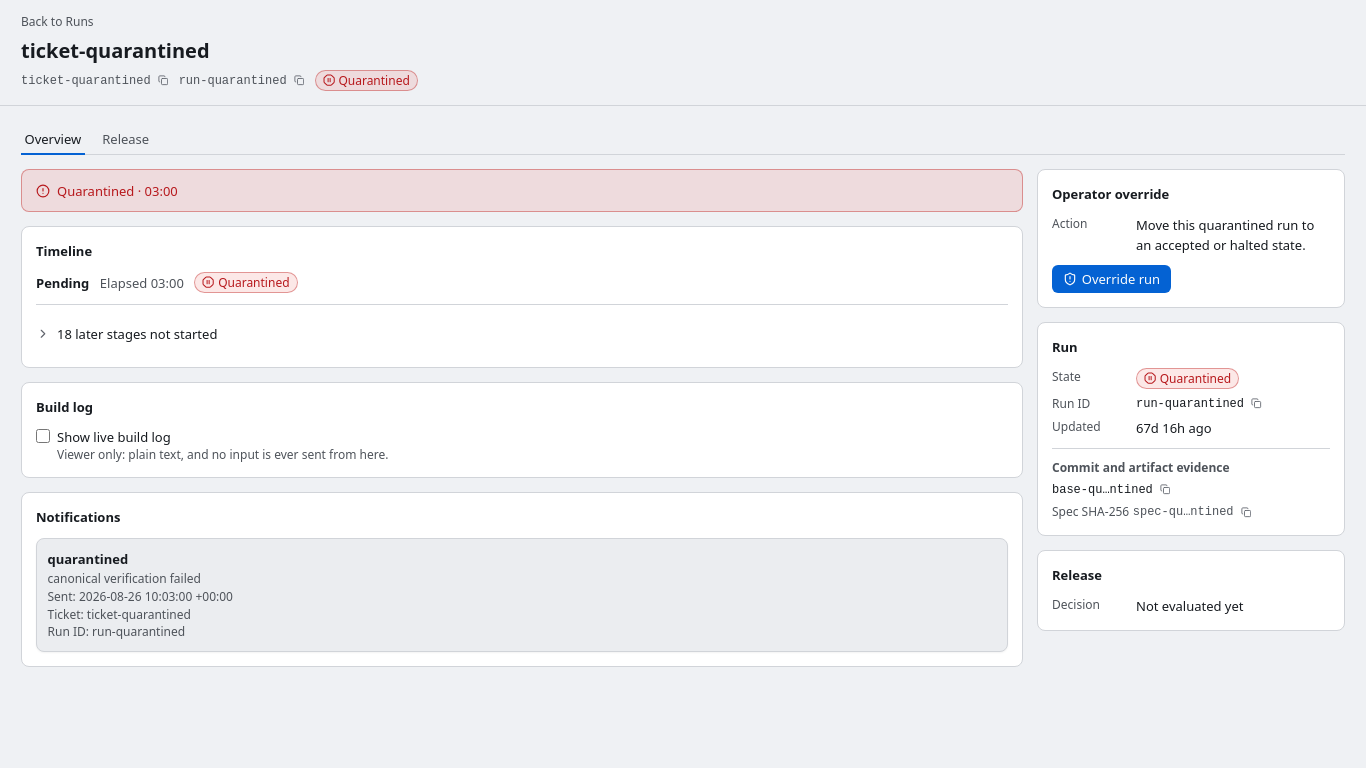
Test: the override dialog asks for the operator name first when none is stored
The width and height of the screenshot is (1366, 768).
Click the button "Override run" at (1111, 279), box top-left (1052, 265), bottom-right (1171, 293)
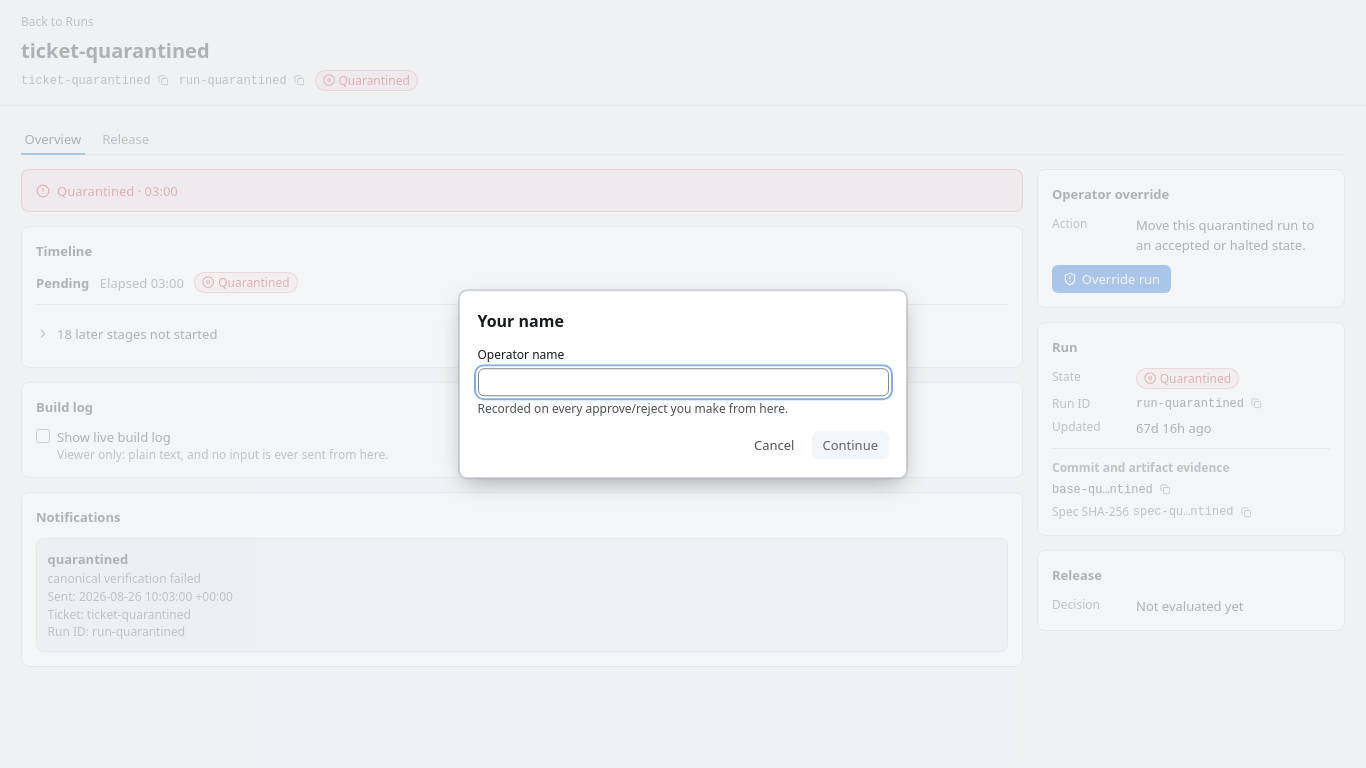
Type "Kanna" into the field labelled "Operator name" at (683, 382), box top-left (478, 368), bottom-right (888, 396)
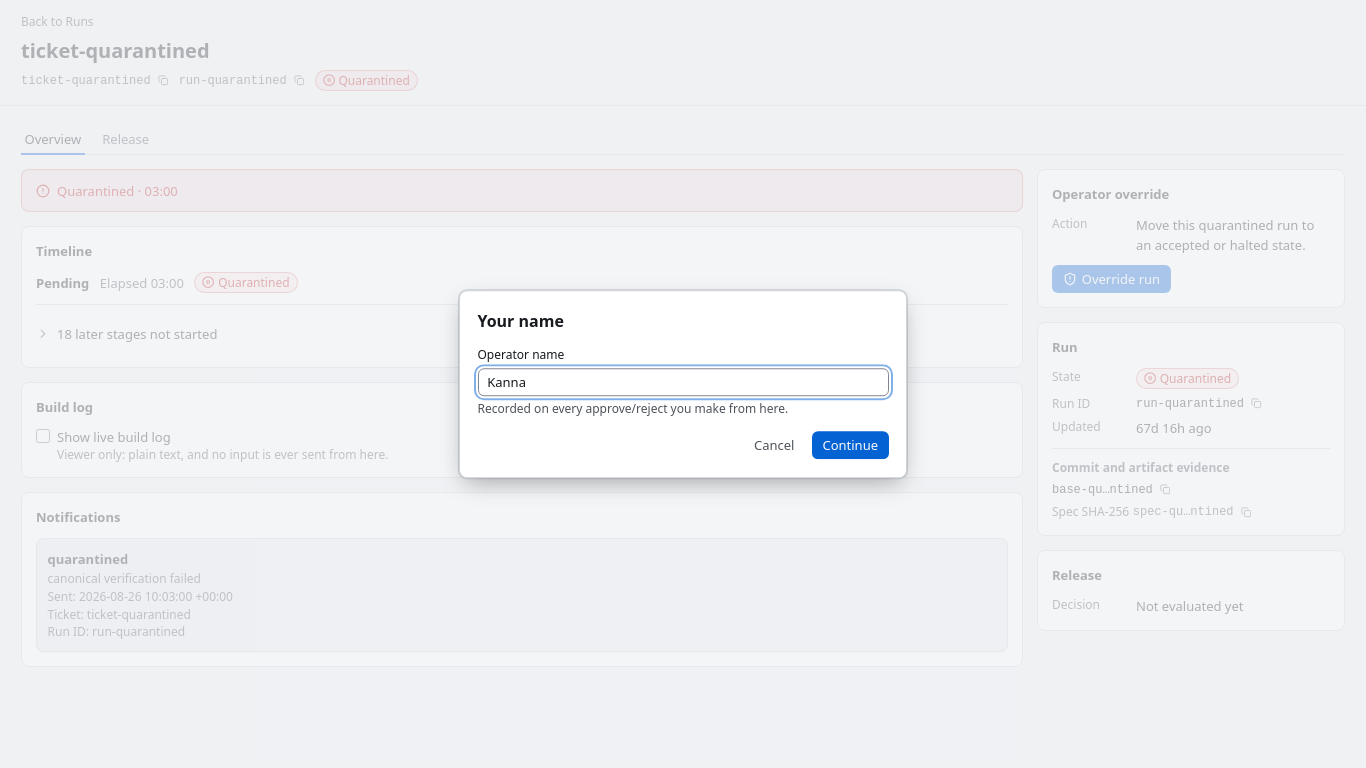
Click the button "Continue" at (850, 445), box top-left (812, 431), bottom-right (888, 459)
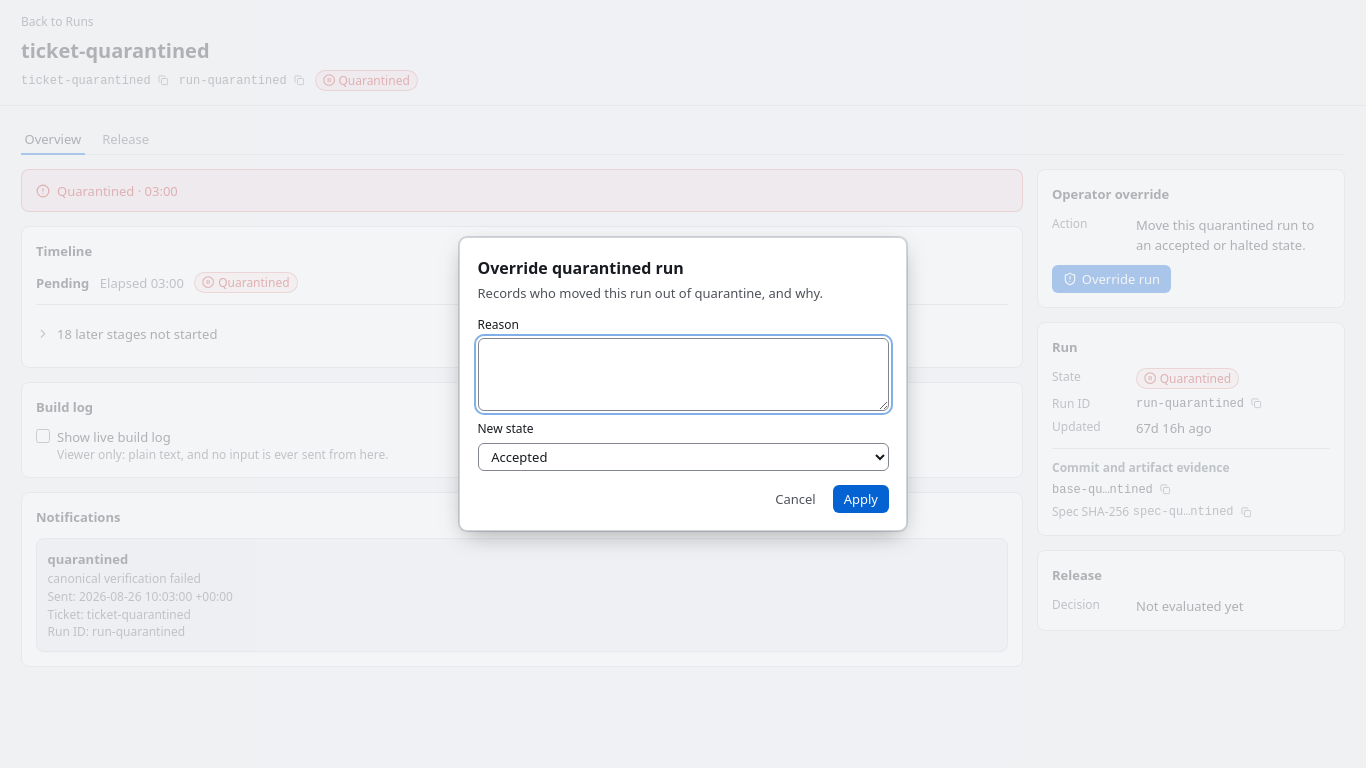
Now the dialog "Override quarantined run" is shown, box top-left (459, 237), bottom-right (907, 531)
